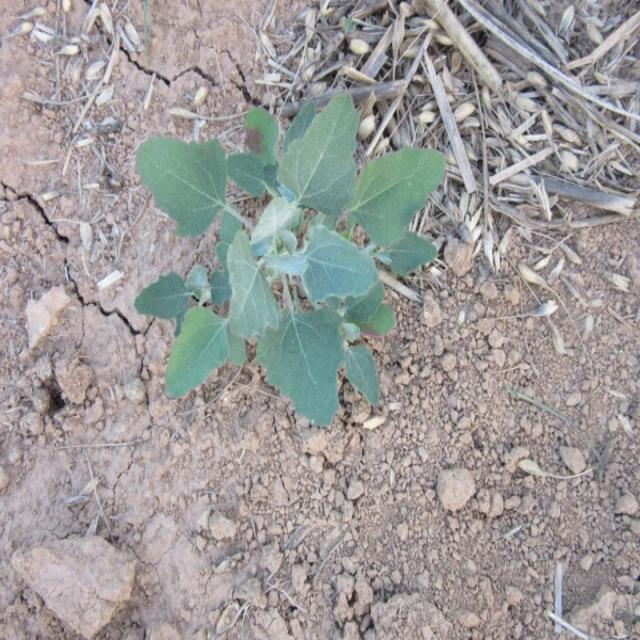ca: (135, 86, 450, 427)
